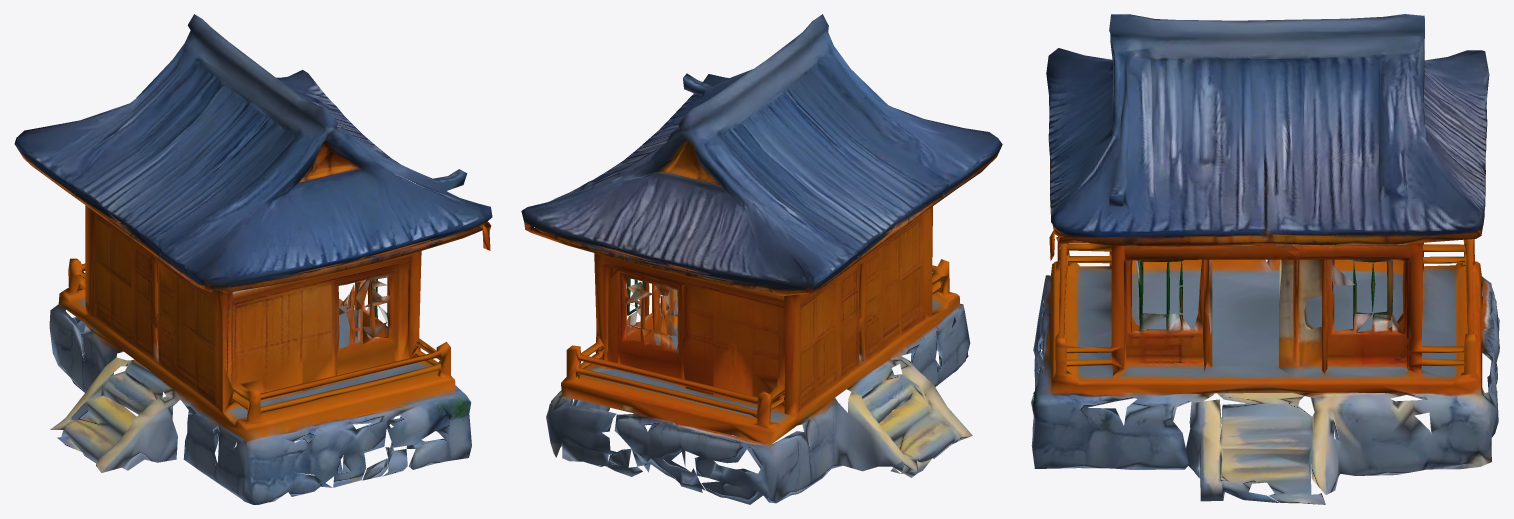
Rendered from teahouse.glb.
3 renders of one model, left to right at view 1: azimuth 30°, elevation 25°; view 2: azimuth 150°, elevation 25°; view 3: azimuth 270°, elevation 25°, orthographic. The views are drawn at different scales.
Parts seen in each view (by area): view 1: tripo_node_48853690-e27d-4a5e-8ce5-148b52a5f903; view 2: tripo_node_48853690-e27d-4a5e-8ce5-148b52a5f903; view 3: tripo_node_48853690-e27d-4a5e-8ce5-148b52a5f903.
Boxes of the visible parts, x1,y1,x2,y2 form: tripo_node_48853690-e27d-4a5e-8ce5-148b52a5f903: (14,14,492,504); tripo_node_48853690-e27d-4a5e-8ce5-148b52a5f903: (521,14,1002,504); tripo_node_48853690-e27d-4a5e-8ce5-148b52a5f903: (1031,14,1499,504).
Size of the model in its own units: 1 by 0.9443 by 1.
1 material, 1 textured.
